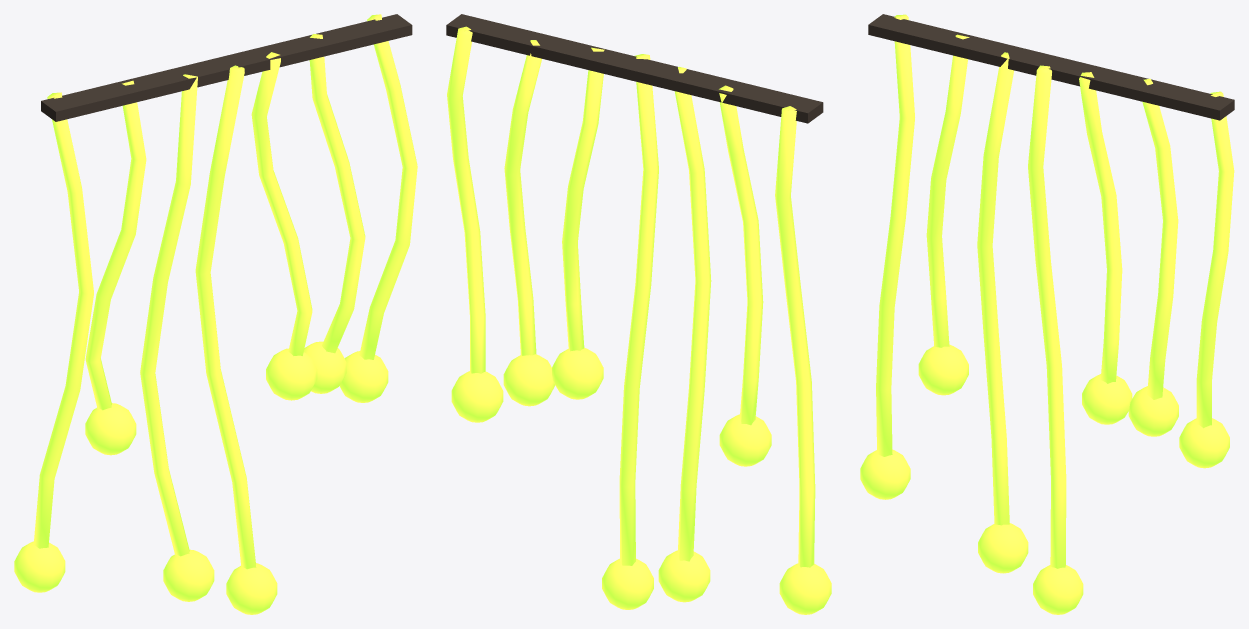
File: city_glow_tendril.glb
3 renders of one model, left to right at view 1: azimuth 30°, elevation 25°; view 2: azimuth 150°, elevation 25°; view 3: azimuth 330°, elevation 25°, orthographic. The views are drawn at different scales.
Parts seen in each view (by area): view 1: CityGlowTendril_Holdfast, CityGlowTendril_Thread3_Halo, CityGlowTendril_Thread2_Halo, CityGlowTendril_Thread0_Halo, CityGlowTendril_Thread6_Halo, CityGlowTendril_Thread1_Halo, CityGlowTendril_Thread5_Halo, CityGlowTendril_Thread4_Halo, CityGlowTendril_Bead2_Halo, CityGlowTendril_Bead1_Halo, CityGlowTendril_Bead3_Halo, CityGlowTendril_Bead4_Halo (+3 smaller); view 2: CityGlowTendril_Holdfast, CityGlowTendril_Thread3_Halo, CityGlowTendril_Thread2_Halo, CityGlowTendril_Thread0_Halo, CityGlowTendril_Thread6_Halo, CityGlowTendril_Thread1_Halo, CityGlowTendril_Thread5_Halo, CityGlowTendril_Thread4_Halo, CityGlowTendril_Bead6_Halo, CityGlowTendril_Bead4_Halo, CityGlowTendril_Bead5_Halo, CityGlowTendril_Bead0_Halo (+3 smaller); view 3: CityGlowTendril_Holdfast, CityGlowTendril_Thread3_Halo, CityGlowTendril_Thread2_Halo, CityGlowTendril_Thread0_Halo, CityGlowTendril_Thread6_Halo, CityGlowTendril_Thread4_Halo, CityGlowTendril_Thread5_Halo, CityGlowTendril_Thread1_Halo, CityGlowTendril_Bead2_Halo, CityGlowTendril_Bead1_Halo, CityGlowTendril_Bead3_Halo, CityGlowTendril_Bead0_Halo (+3 smaller).
Part boxes in pixels (left/top/right/bottom): CityGlowTendril_Holdfast: left=41, top=14, right=412, bottom=121; CityGlowTendril_Thread3_Halo: left=195, top=65, right=256, bottom=569; CityGlowTendril_Thread2_Halo: left=140, top=74, right=197, bottom=556; CityGlowTendril_Thread0_Halo: left=33, top=92, right=93, bottom=548; CityGlowTendril_Thread6_Halo: left=359, top=14, right=417, bottom=359; CityGlowTendril_Thread1_Halo: left=85, top=80, right=146, bottom=410; CityGlowTendril_Thread5_Halo: left=309, top=34, right=365, bottom=353; CityGlowTendril_Thread4_Halo: left=251, top=52, right=312, bottom=355; CityGlowTendril_Bead2_Halo: left=163, top=549, right=214, bottom=601; CityGlowTendril_Bead1_Halo: left=85, top=403, right=136, bottom=455; CityGlowTendril_Bead3_Halo: left=226, top=563, right=277, bottom=614; CityGlowTendril_Bead4_Halo: left=266, top=348, right=317, bottom=400; CityGlowTendril_Holdfast: left=446, top=14, right=823, bottom=123; CityGlowTendril_Thread3_Halo: left=619, top=54, right=658, bottom=565; CityGlowTendril_Thread2_Halo: left=674, top=67, right=711, bottom=561; CityGlowTendril_Thread0_Halo: left=775, top=106, right=815, bottom=567; CityGlowTendril_Thread6_Halo: left=447, top=26, right=485, bottom=373; CityGlowTendril_Thread1_Halo: left=719, top=85, right=763, bottom=425; CityGlowTendril_Thread5_Halo: left=504, top=40, right=541, bottom=355; CityGlowTendril_Thread4_Halo: left=562, top=47, right=604, bottom=351; CityGlowTendril_Bead6_Halo: left=451, top=371, right=503, bottom=422; CityGlowTendril_Bead4_Halo: left=552, top=347, right=603, bottom=399; CityGlowTendril_Bead5_Halo: left=503, top=354, right=555, bottom=406; CityGlowTendril_Bead0_Halo: left=779, top=563, right=831, bottom=614; CityGlowTendril_Holdfast: left=868, top=14, right=1234, bottom=120; CityGlowTendril_Thread3_Halo: left=1028, top=65, right=1066, bottom=568; CityGlowTendril_Thread2_Halo: left=977, top=52, right=1014, bottom=525; CityGlowTendril_Thread0_Halo: left=876, top=14, right=914, bottom=456; CityGlowTendril_Thread6_Halo: left=1196, top=91, right=1234, bottom=428; CityGlowTendril_Thread4_Halo: left=1079, top=72, right=1122, bottom=383; CityGlowTendril_Thread5_Halo: left=1142, top=78, right=1178, bottom=399; CityGlowTendril_Thread1_Halo: left=926, top=34, right=969, bottom=347; CityGlowTendril_Bead2_Halo: left=978, top=523, right=1028, bottom=573; CityGlowTendril_Bead1_Halo: left=918, top=344, right=968, bottom=395; CityGlowTendril_Bead3_Halo: left=1033, top=565, right=1083, bottom=614; CityGlowTendril_Bead0_Halo: left=860, top=449, right=910, bottom=499.
Bounding box in the file's own units: 1.19 × 1.62 × 0.2362.
